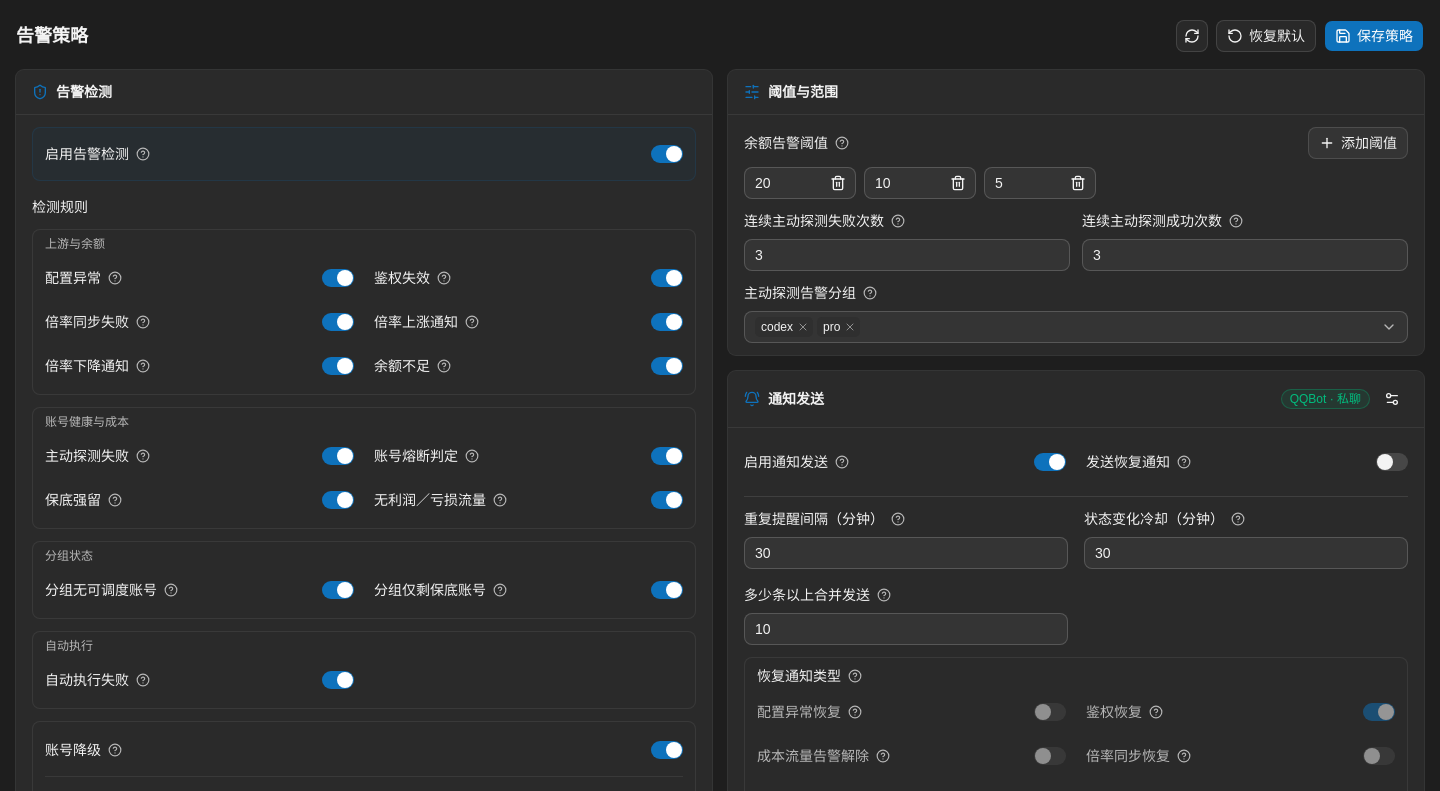
Test: 告警分组旧配置不在字典时仅回显，不补入候选且可清除
Click the dropdown named "主动探测告警分组": (1076, 327) [744, 311, 1408, 343]
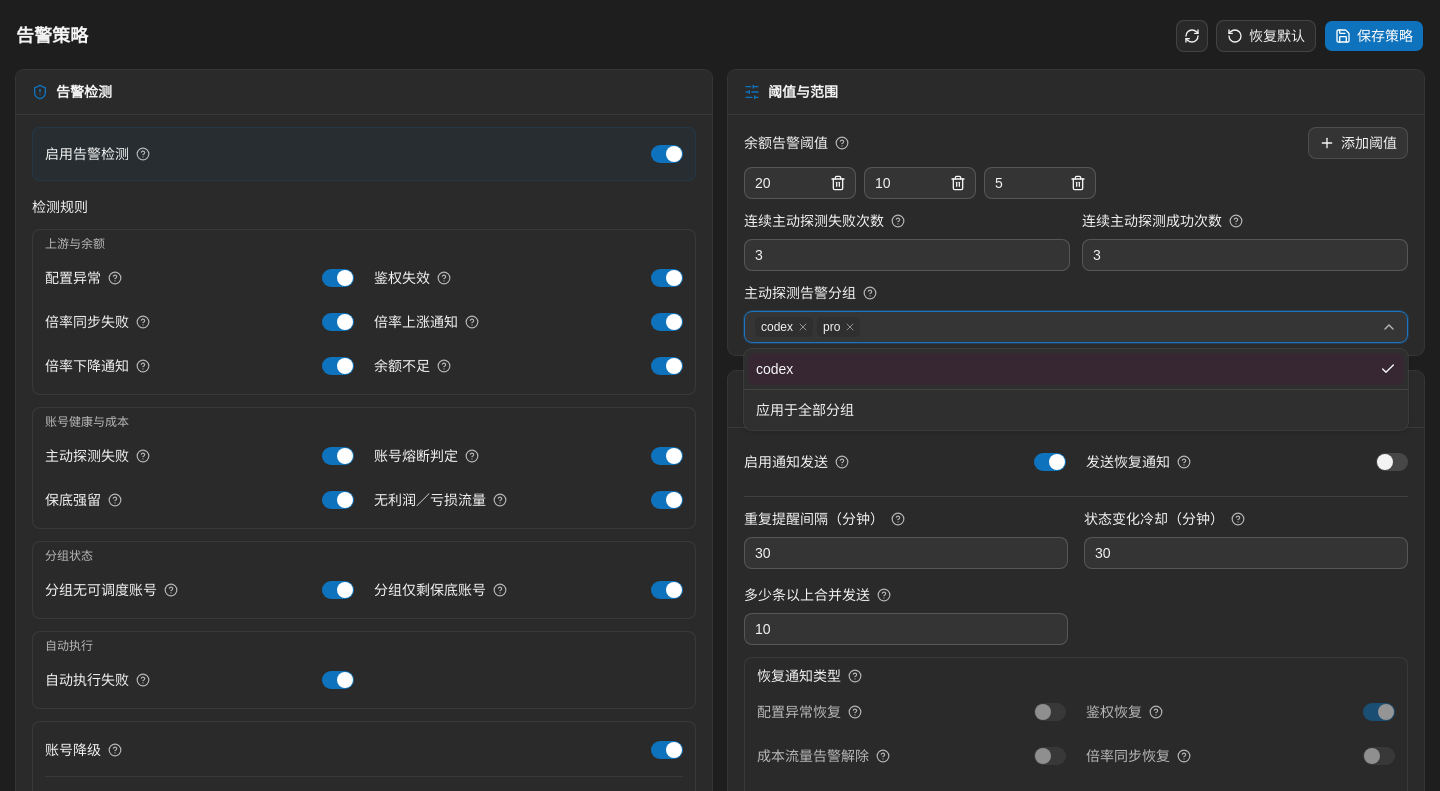
Result: the options read "codex", in this order at [748, 353, 1404, 385]
Click the button "应用于全部分组": (805, 410) [748, 394, 1404, 426]
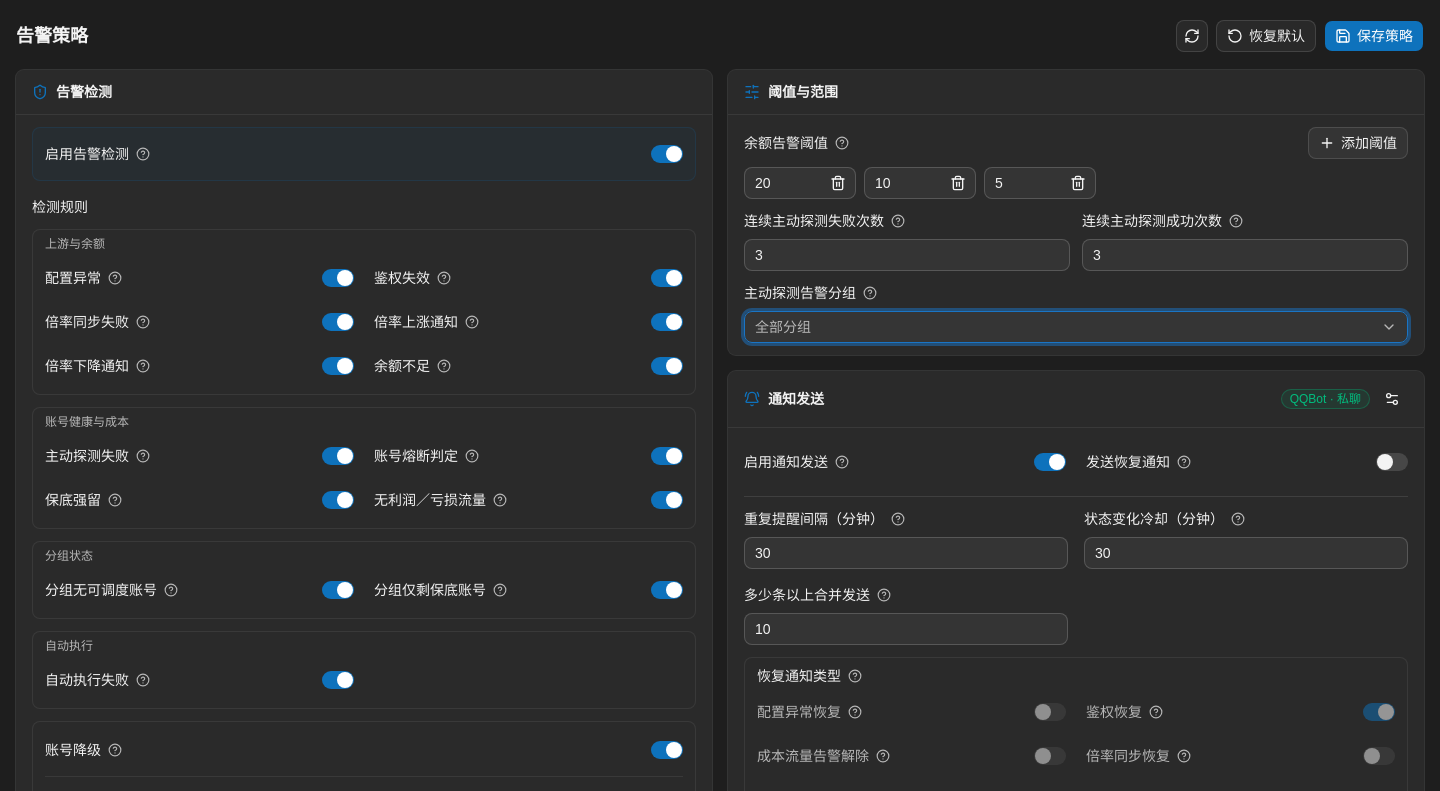
Result: the dropdown named "主动探测告警分组" no longer shows "pro" at [744, 311, 1408, 343]
